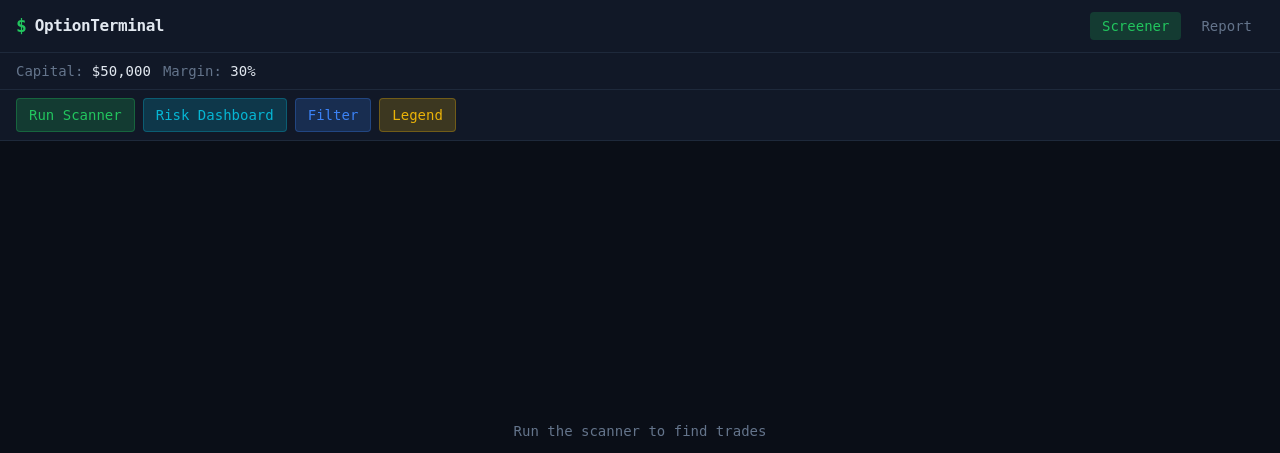
Test case: NavBar › navigates from screener to report
The image size is (1280, 453).
Click the link "Report" at (1227, 26), box [1201,18,1252,34]
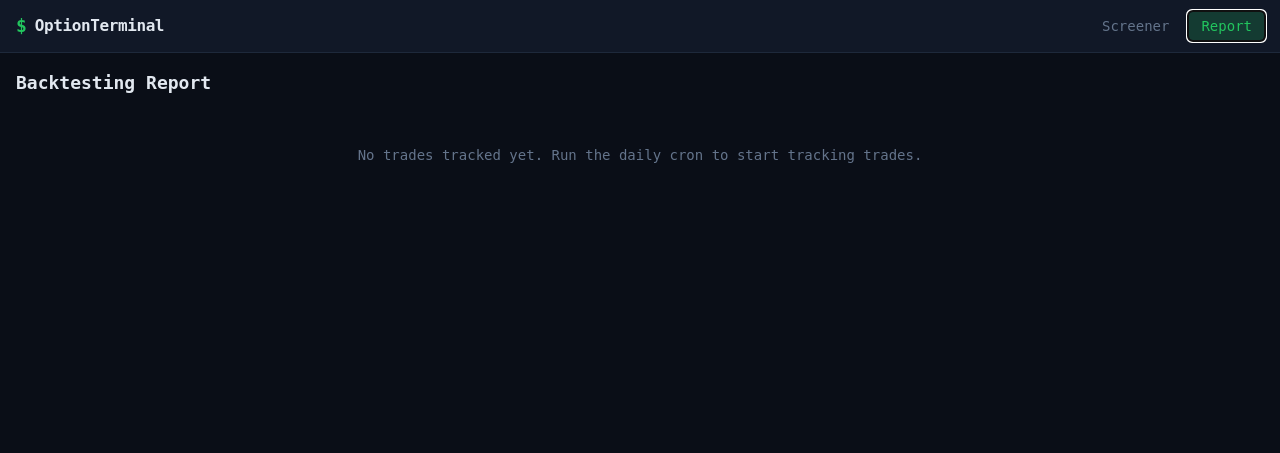
Expected: the heading "Backtesting Report" is shown, [16,72,211,93]
